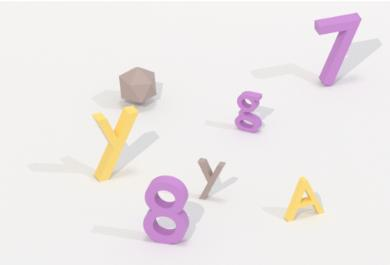0-TronCanh: (115, 60, 164, 108)
7: (310, 9, 367, 93)
8: (141, 172, 192, 249)
A: (279, 171, 327, 226)
g: (230, 88, 266, 135)
y: (90, 101, 144, 185), (194, 154, 229, 203)
